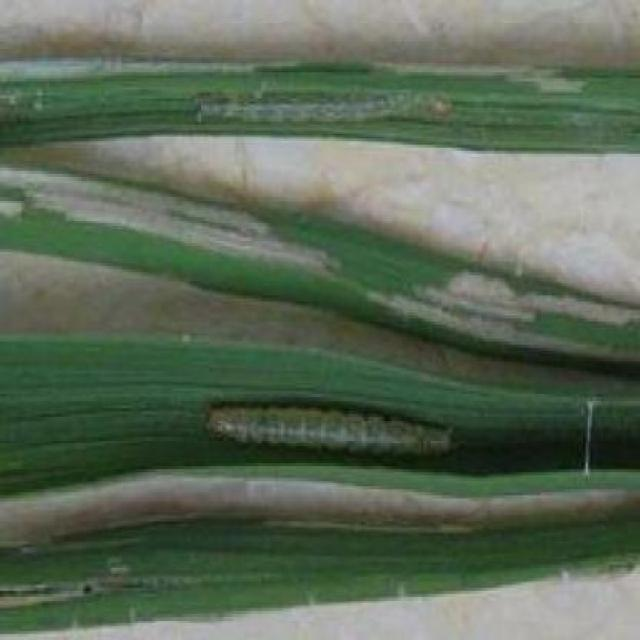leaf-folder: (186, 378, 480, 482), (182, 70, 484, 152)
